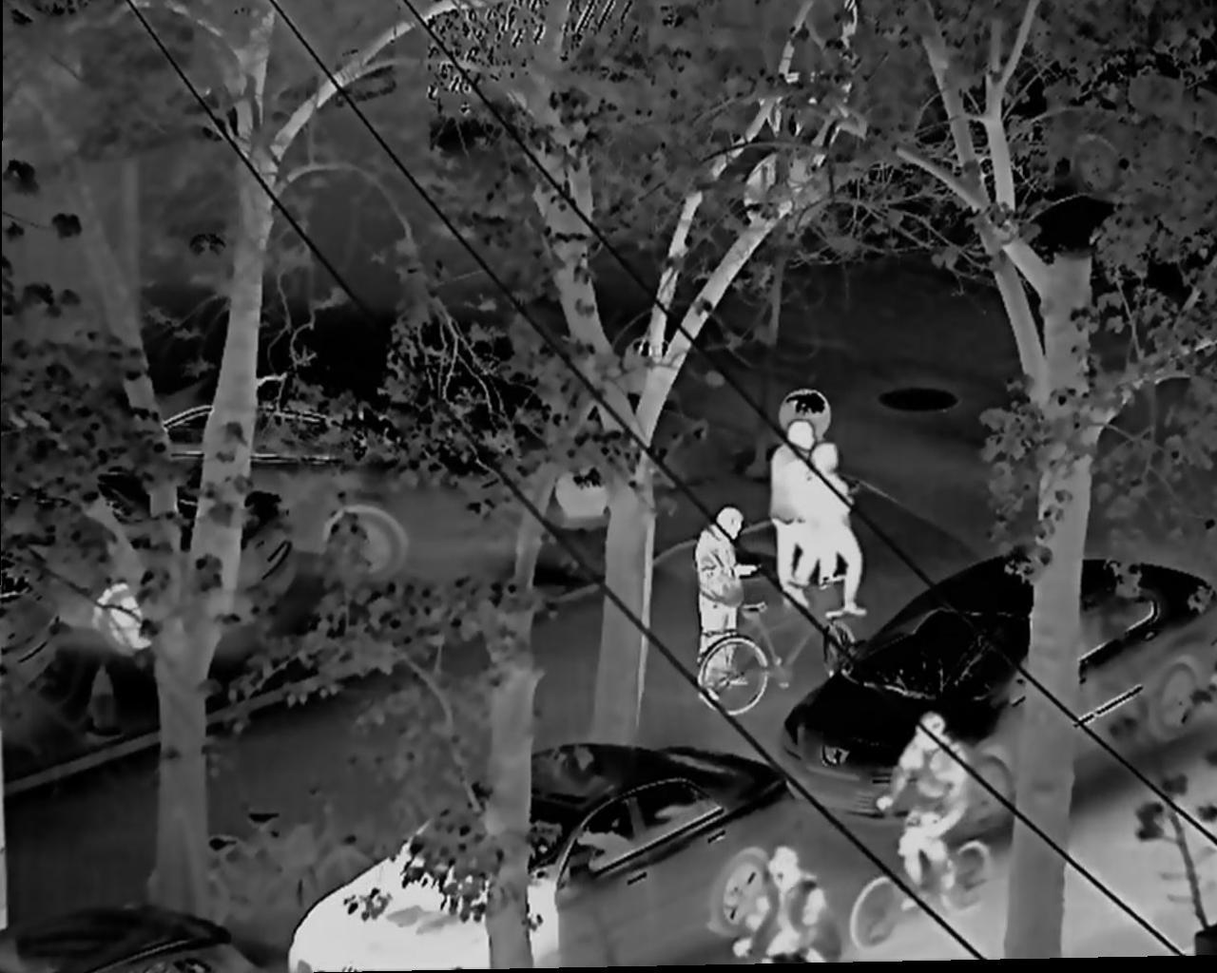person: (871, 712, 968, 911), (730, 845, 841, 973), (796, 442, 869, 617), (694, 506, 760, 691), (770, 419, 820, 605)
